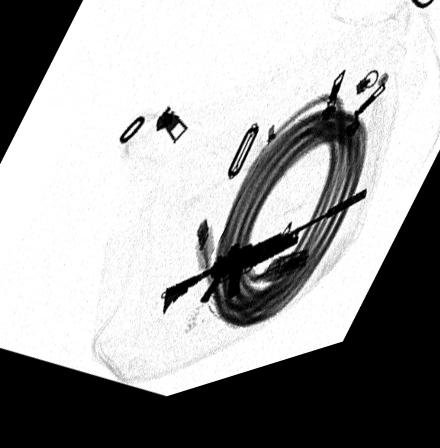Gun: (160, 211, 366, 323)
